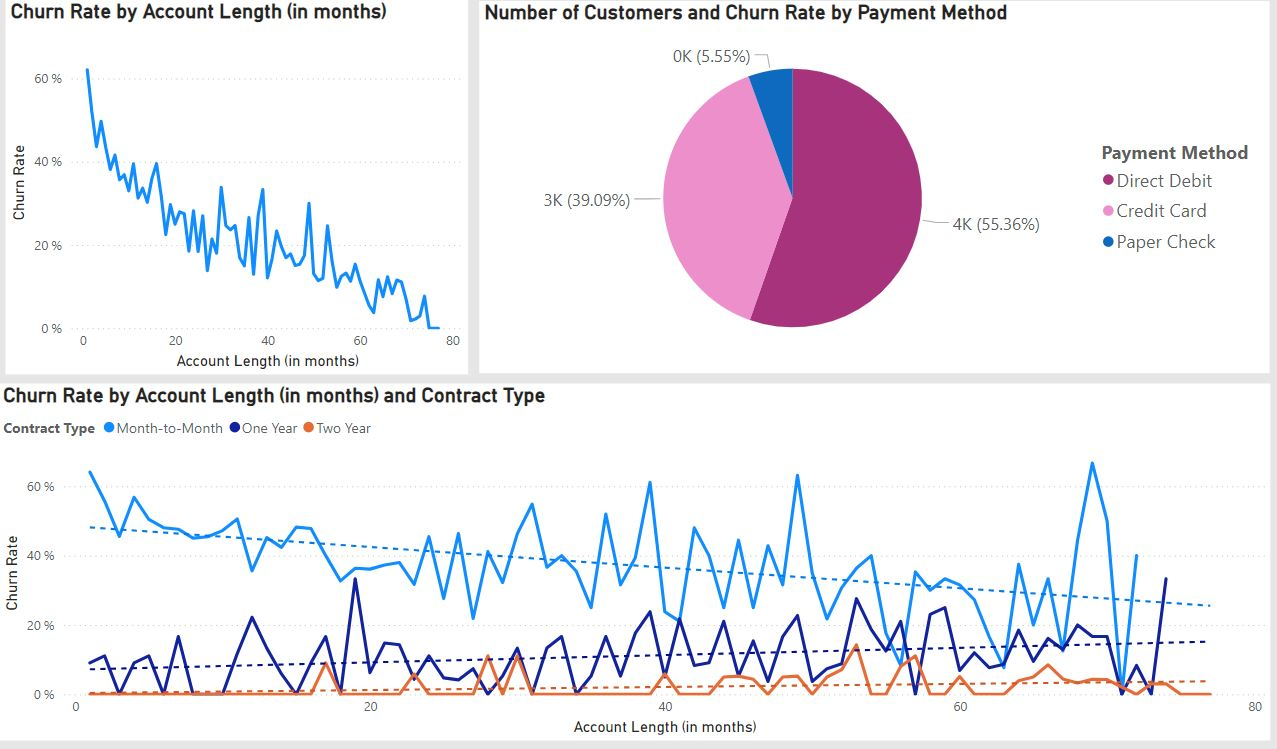

The page's visual inventory and layout, read from the dashboard file:
{"tool":"powerbi","page":{"name":"Contract Type","canvas":[1280,720],"ordinal":4},"visuals":[{"type":"lineChart","fields":{"Y":["Databel - Data.Churn Rate"],"Category":["Databel - Data.Account Length (in months)"]},"box":[41.1,3.6,441.7,357.5],"z":0,"group":"g1"},{"type":"lineChart","fields":{"Y":["Databel - Data.Churn Rate"],"Category":["Databel - Data.Account Length (in months)"],"Series":["Databel - Data.Contract Type"]},"box":[32.9,369.4,1214.5,340.4],"z":0},{"type":"pieChart","fields":{"Category":["Databel - Data.Payment Method"],"Y":["Databel - Data.Number of Customers"]},"box":[492.8,5.3,754.6,354.9],"z":1000,"group":"g1"},{"type":"group","id":"g1","title":"Group 1","box":[41.1,3.6,1206.3,357.5],"z":1000}]}

Visuals, with their boxes on the page's 1280x720 design canvas (x1, y1, x2, y2). These are canvas units, not pixel positions in the 1277x749 screenshot, which may show the page scaled, cropped or inside an application window:
lineChart - Databel - Data.Churn Rate x Databel - Data.Account Length (in months): BBox(41, 4, 483, 361)
lineChart - Databel - Data.Churn Rate x Databel - Data.Account Length (in months): BBox(33, 369, 1247, 710)
pieChart - Databel - Data.Payment Method x Databel - Data.Number of Customers: BBox(493, 5, 1247, 360)
"Group 1" group: BBox(41, 4, 1247, 361)
